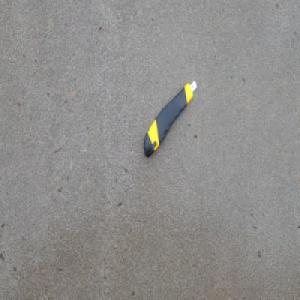Cutter: (143, 78, 197, 158)
